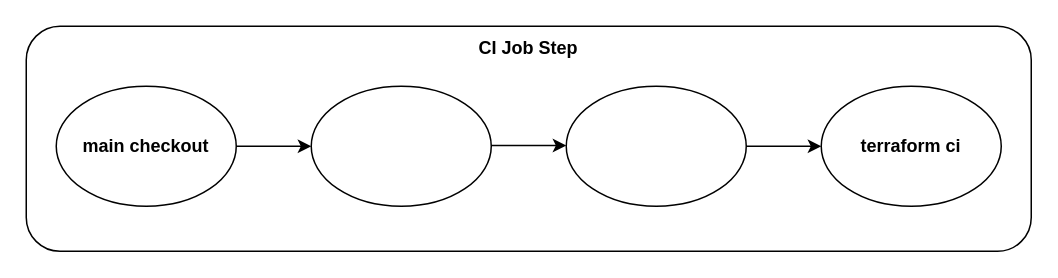
The diagram is 1058 pixels wide and 278 high, and some of its shapes have lost their labels. Here are the shapes that lost their labels. From the top down, the centre of each, then its label:
At point 400,145: "authenticate to google cloud".
At point 655,145: "github modules checkout".
